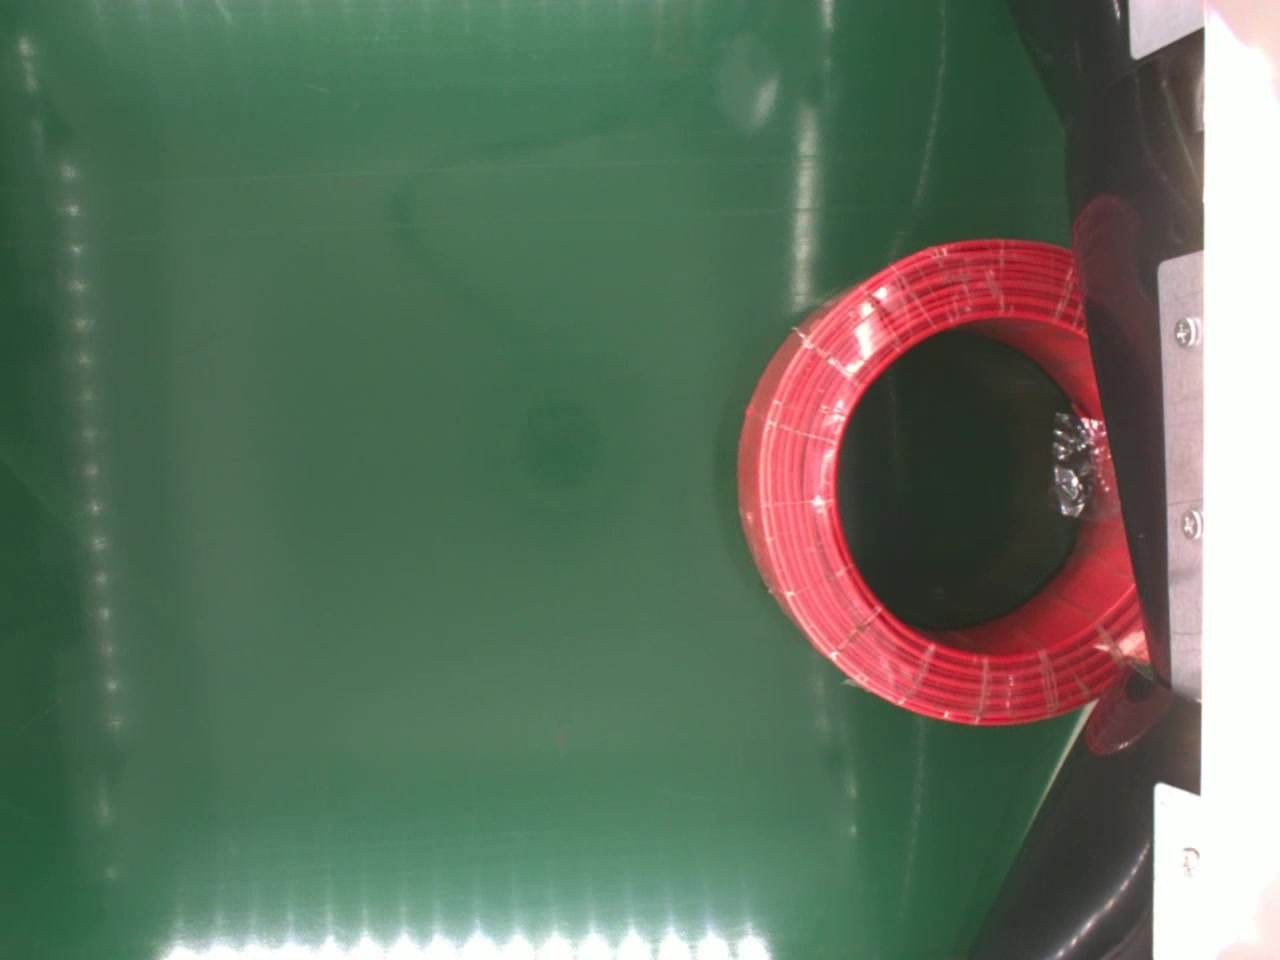red: (731, 228, 1153, 731)
